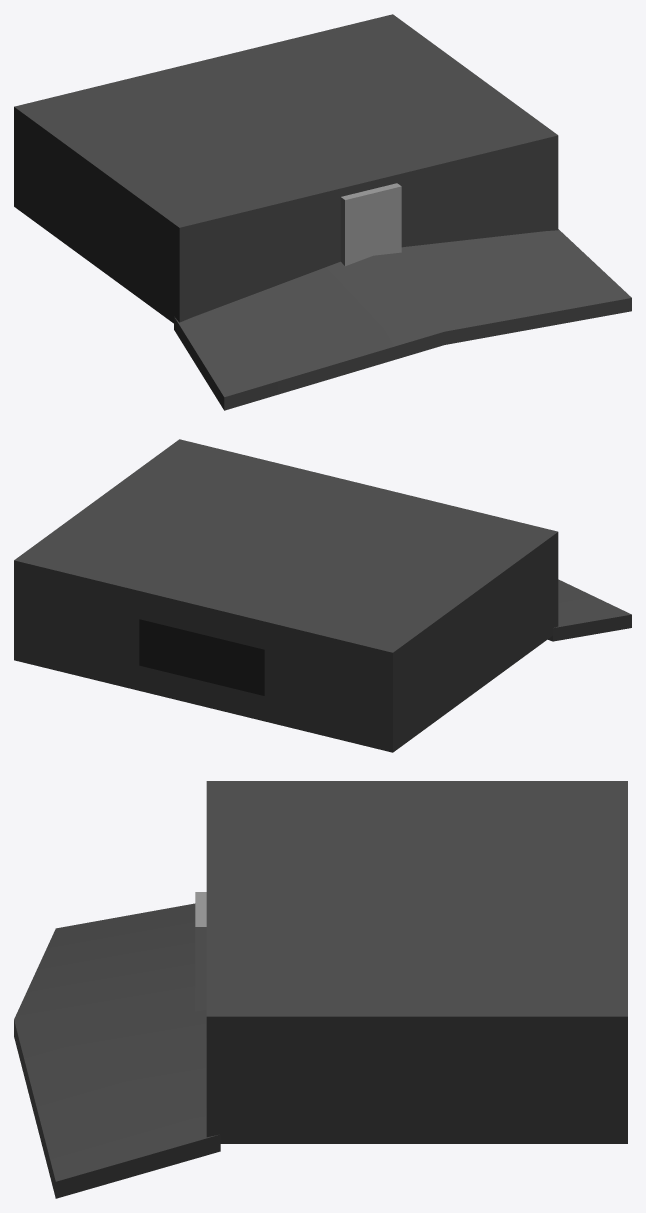
File: Item_HatBaseball05.FBX
3 renders of one model, top to bottom at view 1: azimuth 30°, elevation 25°; view 2: azimuth 150°, elevation 25°; view 3: azimuth 270°, elevation 25°, orthographic. The views are drawn at different scales.
Visible parts, largest first — view 1: Item_HatBaseball05; view 2: Item_HatBaseball05; view 3: Item_HatBaseball05.
Part boxes in pixels (x1,y1,x2,y2): Item_HatBaseball05: (14, 14, 631, 410); Item_HatBaseball05: (14, 439, 631, 752); Item_HatBaseball05: (14, 781, 627, 1198).
Bounding box in the file's own units: 44.9 × 14.32 × 46.28.
